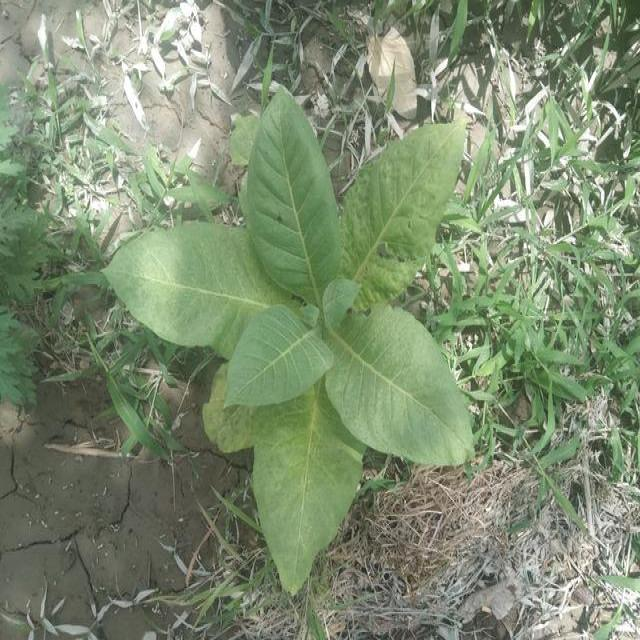crop: (97, 67, 484, 598)
